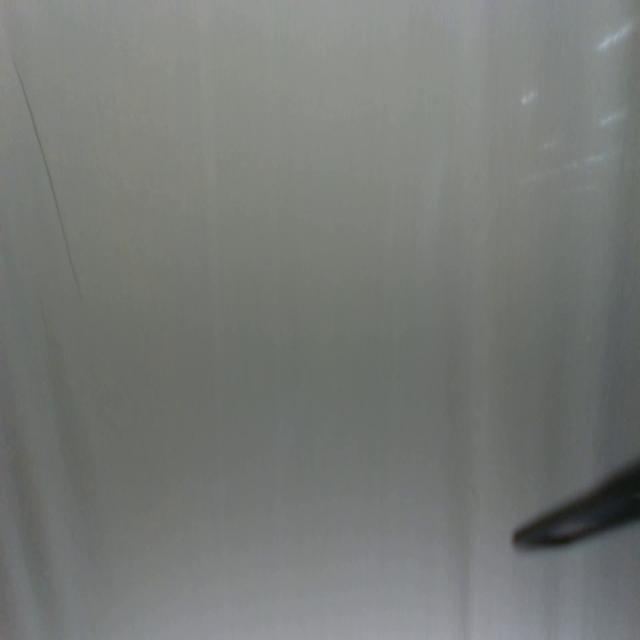crease: (11, 41, 83, 304)
